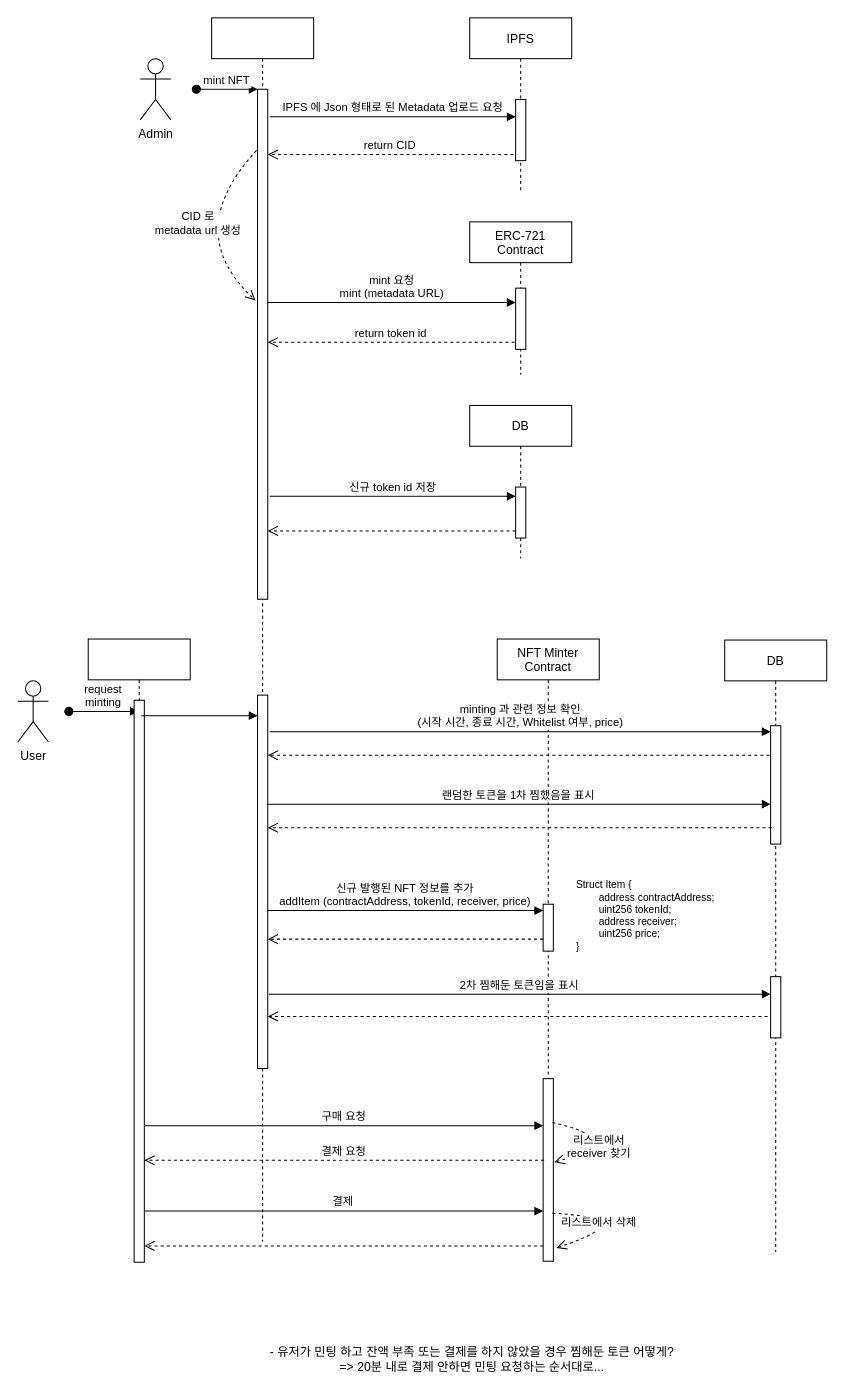
This 845x1392 diagram has some shape labels left out. The shapes that lost their labels are listed below. From the top down, each one's box as (x1, y1, x2, y2) in pixels, then its label:
(211, 17, 314, 1242): ASP
(87, 638, 190, 1262): Web Client
